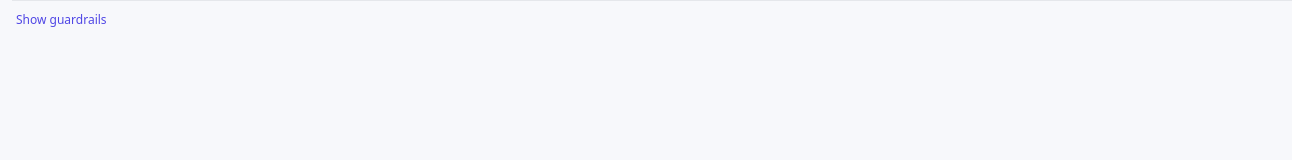
Test case: GuardrailsPanel › is collapsed until toggled
Click the button "Show guardrails".
click(61, 20)  # box [12,10,111,30]
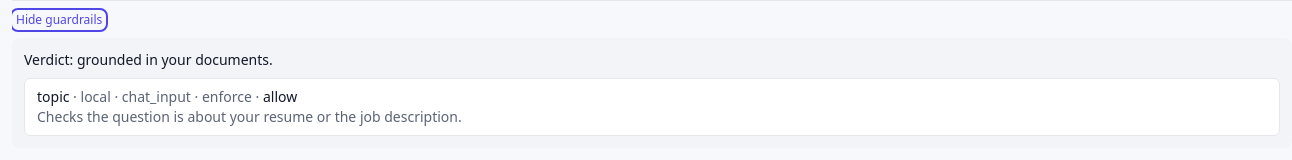
Expected: the list named "guardrail checks" is shown, [24,78,1280,136]
Expected: the button "Hide guardrails" is shown, [12,10,106,30]
